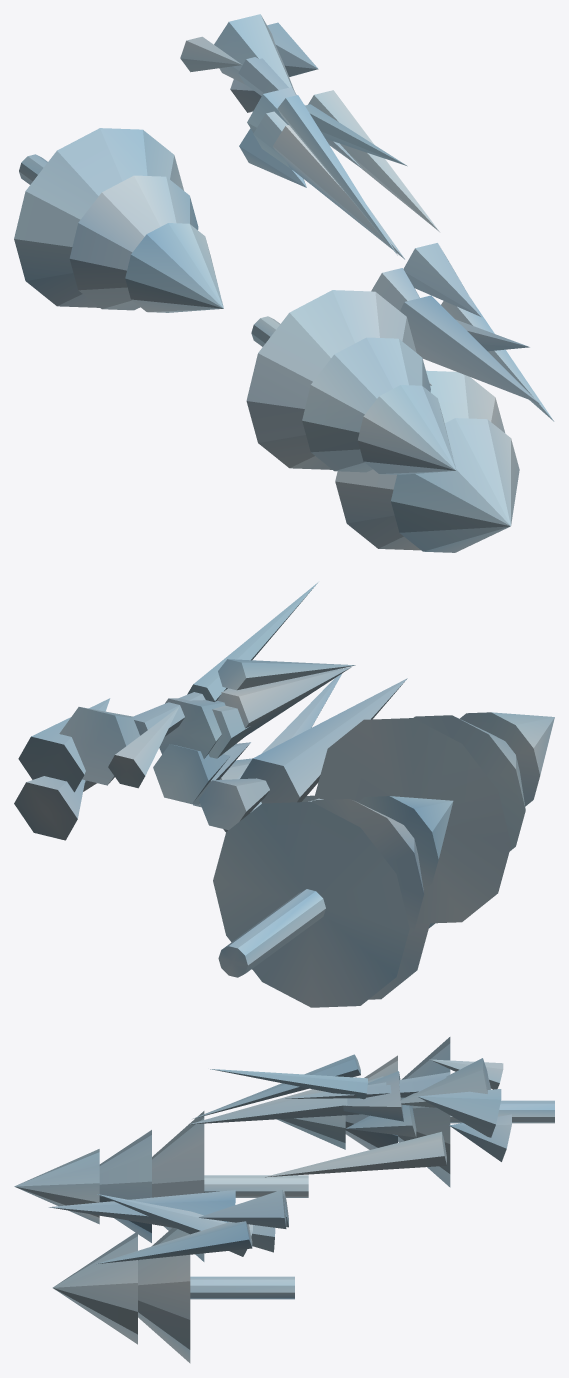
The picture shows the model from 3 angles, top to bottom: view 1: azimuth 30°, elevation 25°; view 2: azimuth 150°, elevation 25°; view 3: azimuth 270°, elevation 25°; orthographic projection. The views are drawn at different scales.
Visible parts, largest first — view 1: geometry_0; view 2: geometry_0; view 3: geometry_0.
Part boxes in pixels (bbox=[...]): geometry_0: bbox=[14, 14, 554, 552]; geometry_0: bbox=[14, 582, 554, 1007]; geometry_0: bbox=[14, 1037, 554, 1363].
Size of the model in its own units: 3.05 by 3.46 by 5.69.
